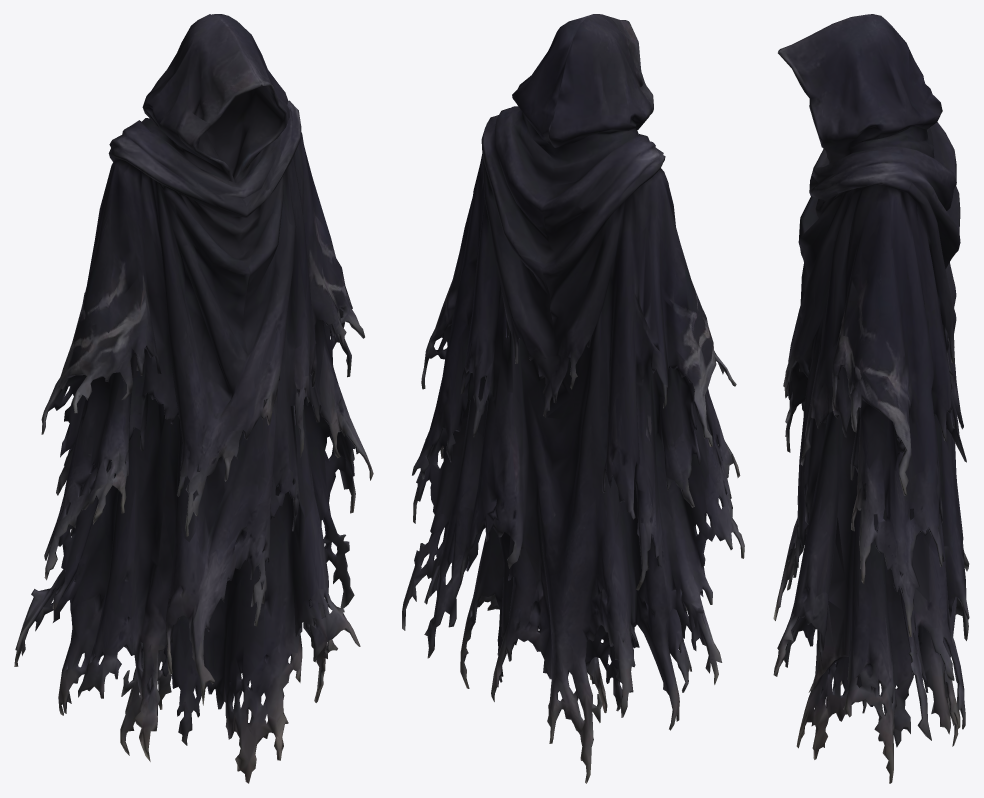
File: tantal_robe.fbx
3 renders of one model, left to right at view 1: azimuth 30°, elevation 25°; view 2: azimuth 150°, elevation 25°; view 3: azimuth 270°, elevation 25°, orthographic. The views are drawn at different scales.
Visible parts, largest first — view 1: tantal_robe; view 2: tantal_robe; view 3: tantal_robe.
Boxes of the visible parts, left/top/right/bottom form: tantal_robe: left=14, top=14, right=373, bottom=783; tantal_robe: left=402, top=14, right=744, bottom=783; tantal_robe: left=773, top=14, right=969, bottom=783.
Size of the model in its own units: 45.48 by 98.13 by 23.15.
Materials: 1 (1 with a texture image).
